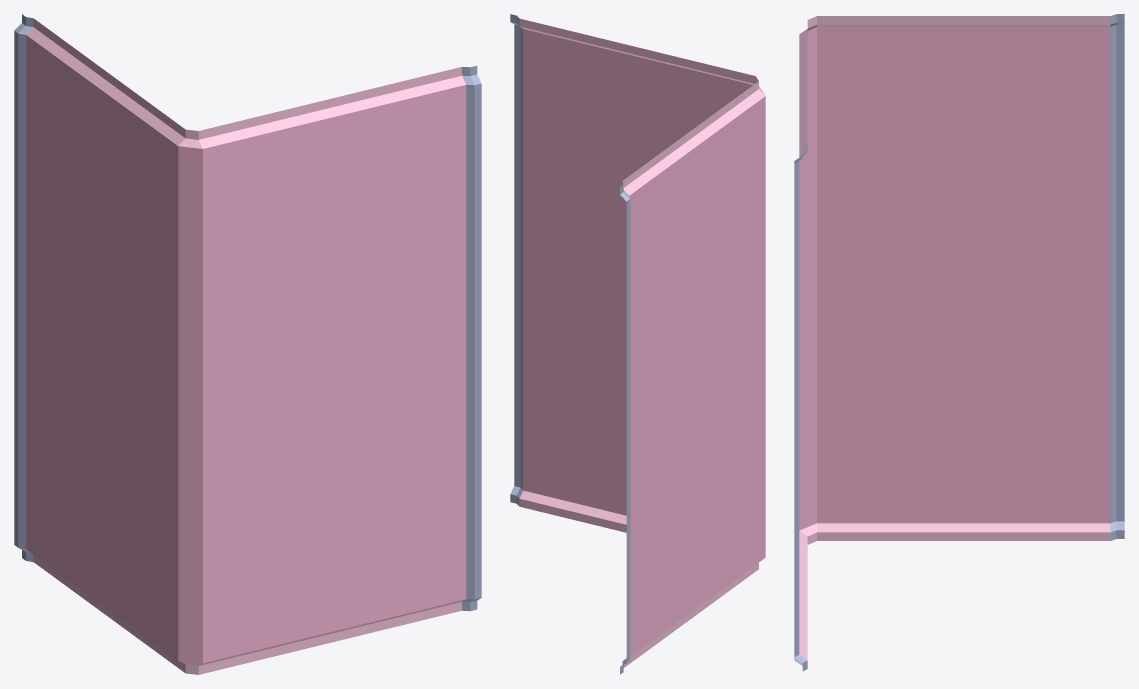
The model's file is WallPanel_Corner_In.fbx.
The picture shows the model from 3 angles, left to right: view 1: azimuth 30°, elevation 25°; view 2: azimuth 150°, elevation 25°; view 3: azimuth 270°, elevation 25°; orthographic projection. The views are drawn at different scales.
Visible parts, largest first — view 1: WallPanel_Corner_In; view 2: WallPanel_Corner_In; view 3: WallPanel_Corner_In.
Boxes of the visible parts, x1=… form: WallPanel_Corner_In: x1=14, y1=14, x2=481, y2=674; WallPanel_Corner_In: x1=510, y1=14, x2=765, y2=674; WallPanel_Corner_In: x1=794, y1=14, x2=1124, y2=671.
Size of the model in its own units: 205 by 360 by 205.
1 material, 1 textured.
